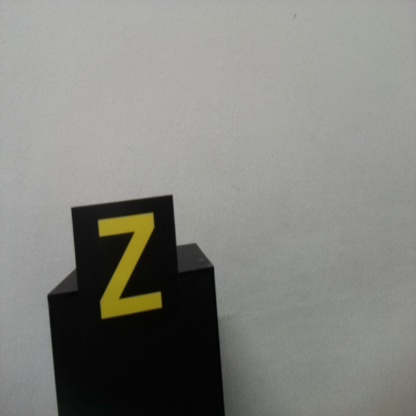id_15: (71, 205, 179, 335)
